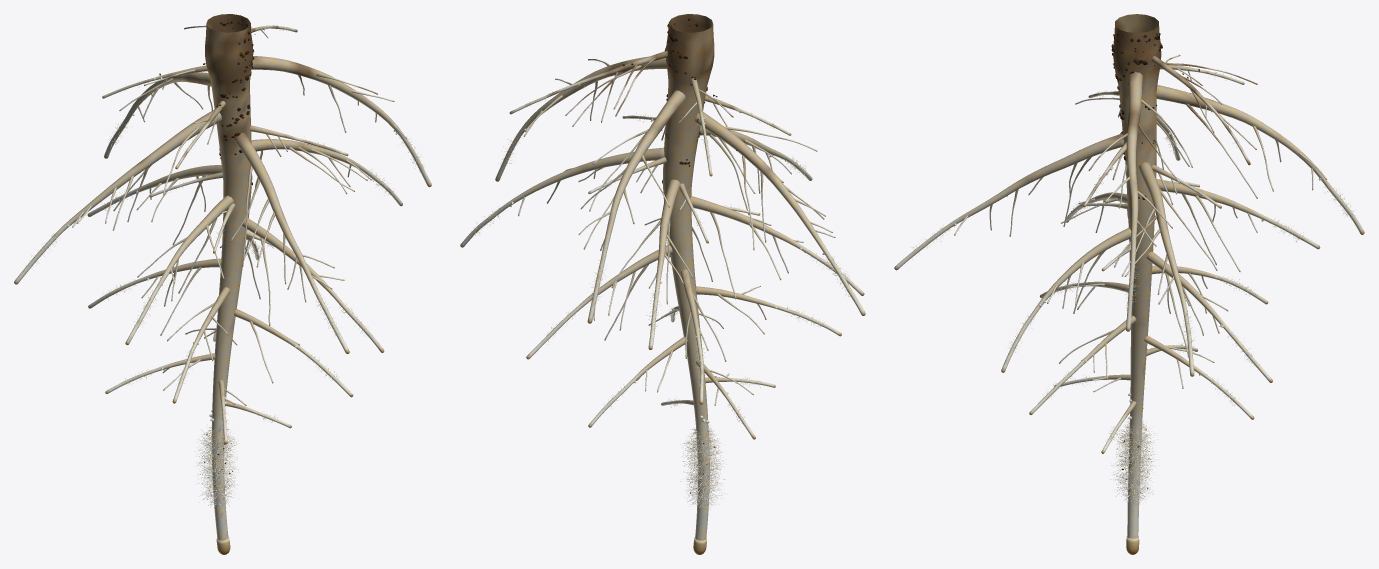
File: raiz_eudicotiledonea.glb
The picture shows the model from 3 angles, left to right: view 1: azimuth 30°, elevation 25°; view 2: azimuth 150°, elevation 25°; view 3: azimuth 270°, elevation 25°; orthographic projection.
Visible parts, largest first — view 1: raiz, zona_ramificacao, coleto, pelos_absorventes, pelos_absorventes_laterais, zona_pilifera, solo_aderido; view 2: raiz, zona_ramificacao, coleto, pelos_absorventes, pelos_absorventes_laterais, zona_pilifera; view 3: raiz, zona_ramificacao, coleto, pelos_absorventes, pelos_absorventes_laterais, zona_pilifera.
Boxes of the visible parts, x1,y1,x2,y2 form: raiz: [14, 25, 431, 444]; zona_ramificacao: [205, 52, 253, 429]; coleto: [205, 14, 253, 64]; pelos_absorventes: [196, 425, 239, 507]; pelos_absorventes_laterais: [29, 25, 424, 428]; zona_pilifera: [211, 428, 225, 511]; solo_aderido: [159, 18, 255, 482]; raiz: [460, 51, 865, 439]; zona_ramificacao: [662, 56, 714, 431]; coleto: [666, 14, 714, 64]; pelos_absorventes: [680, 425, 724, 508]; pelos_absorventes_laterais: [471, 60, 852, 423]; zona_pilifera: [696, 429, 709, 511]; raiz: [894, 54, 1364, 453]; zona_ramificacao: [1113, 56, 1161, 426]; coleto: [1113, 14, 1161, 63]; pelos_absorventes: [1110, 418, 1156, 503]; pelos_absorventes_laterais: [911, 70, 1355, 440]; zona_pilifera: [1127, 424, 1141, 507].
Bounding box in the file's own units: 2.04 × 2.61 × 2.08.
Materials: 4 (2 with a texture image).
